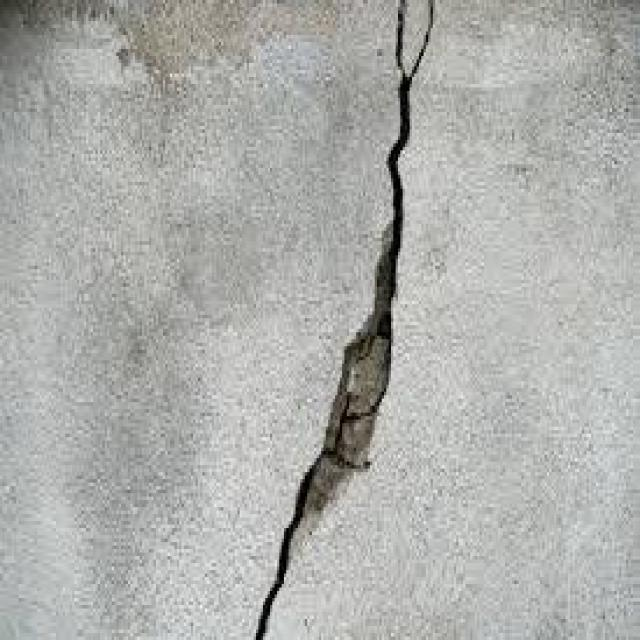Rachadura: (251, 0, 438, 637)
